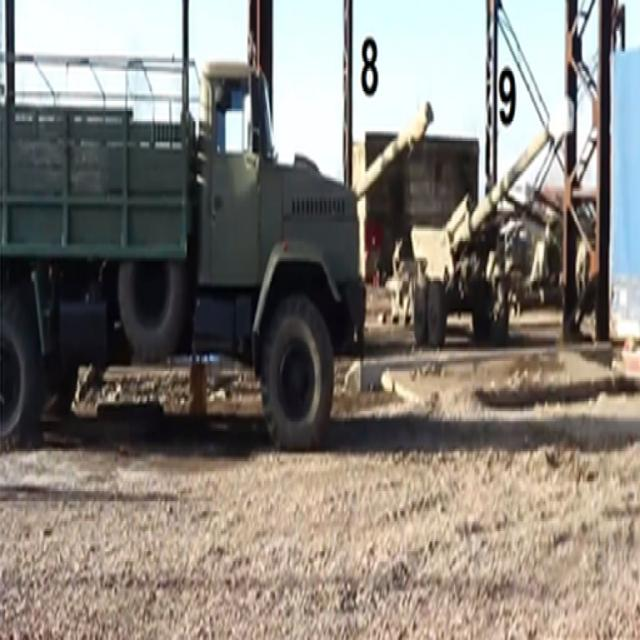ART: (407, 96, 575, 342)
TRUCK: (0, 51, 369, 451)
